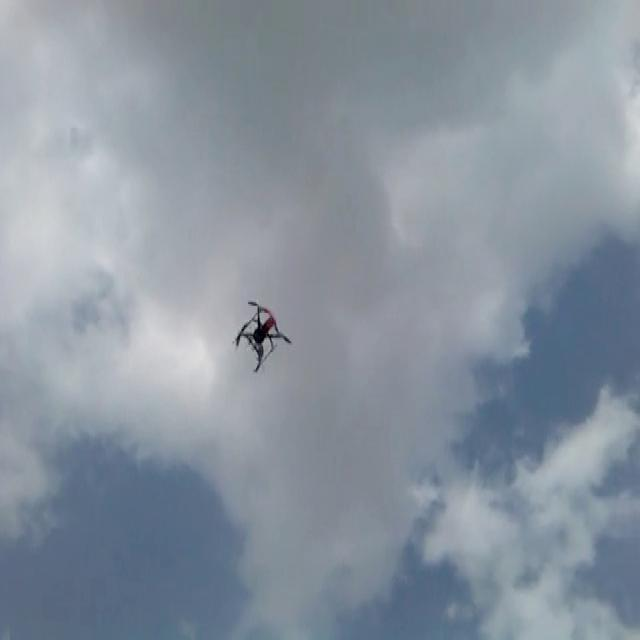drone: (235, 295, 294, 373)
